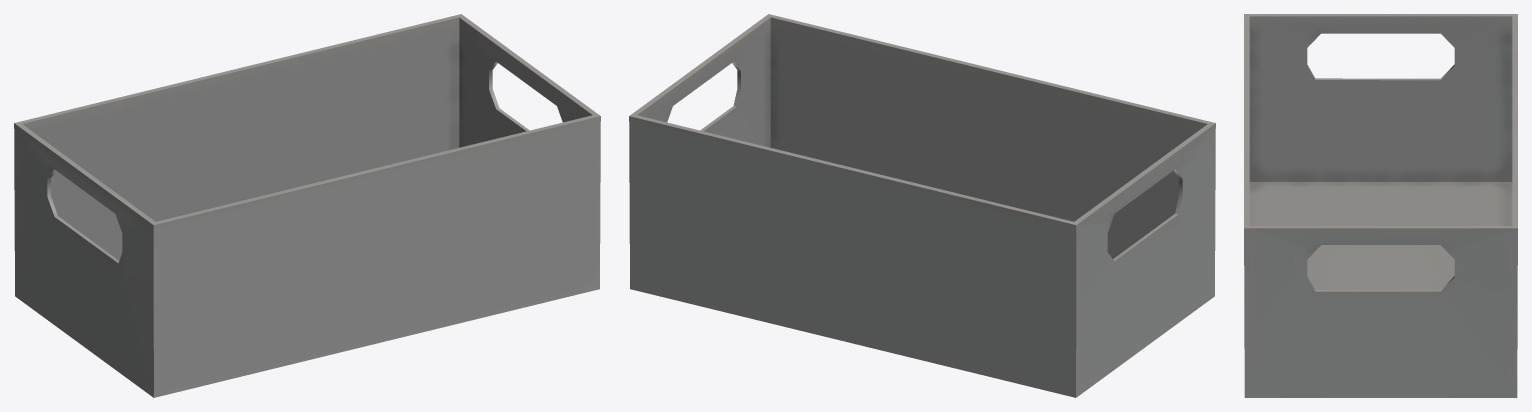
The model's file is Pfb_PaperBox__25.fbx.
3 views of the same model, side by side, from view 1: azimuth 30°, elevation 25°; view 2: azimuth 150°, elevation 25°; view 3: azimuth 270°, elevation 25° (orthographic).
Visible parts, largest first — view 1: Mat_PaperBox_01_01; view 2: Mat_PaperBox_01_01; view 3: Mat_PaperBox_01_01.
Boxes of the visible parts, <box> form: Mat_PaperBox_01_01: <box>14,14,600,397</box>; Mat_PaperBox_01_01: <box>629,14,1215,397</box>; Mat_PaperBox_01_01: <box>1244,14,1517,397</box>.
Size of the model in its own units: 1.28 by 0.4733 by 0.6912.
Materials: 1 (1 with a texture image).
